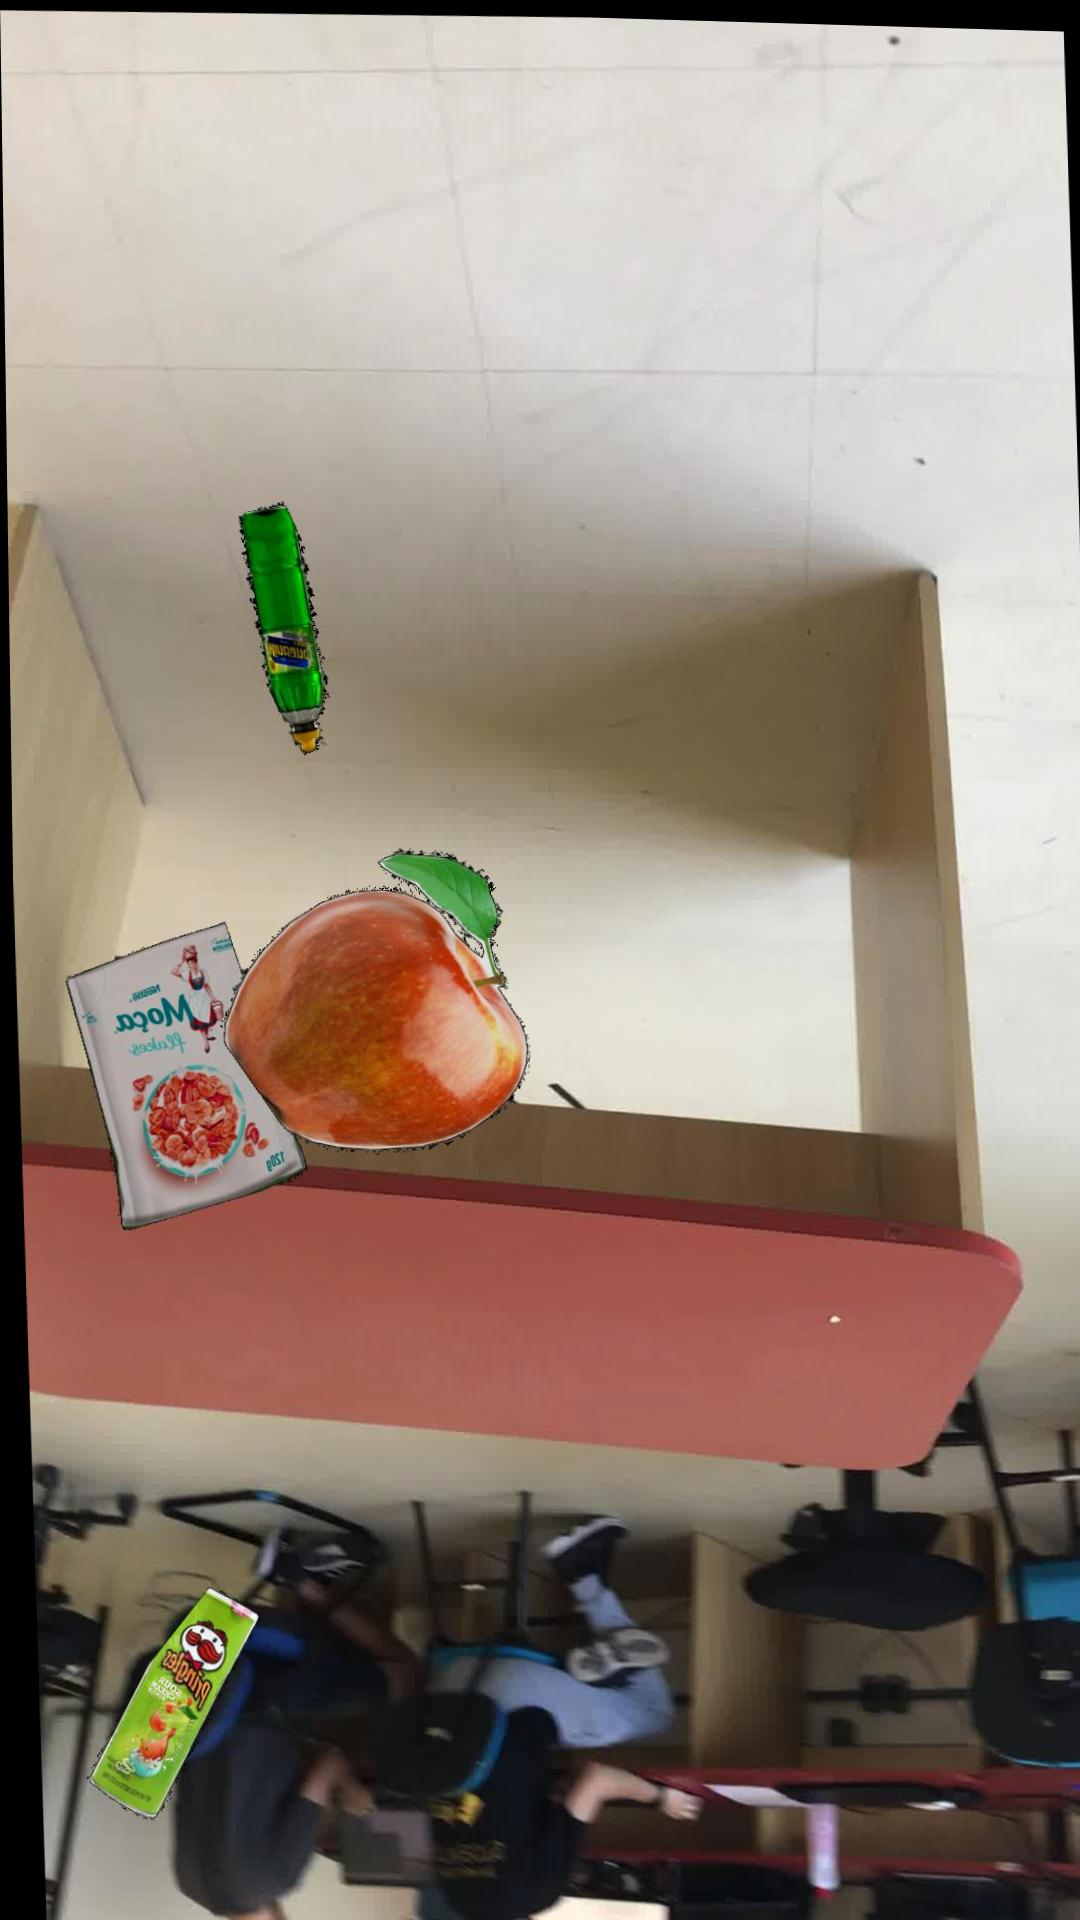apple: (218, 847, 522, 1149)
cleaner: (235, 501, 322, 753)
corn flakes: (59, 922, 302, 1229)
pringles: (82, 1586, 252, 1817)
